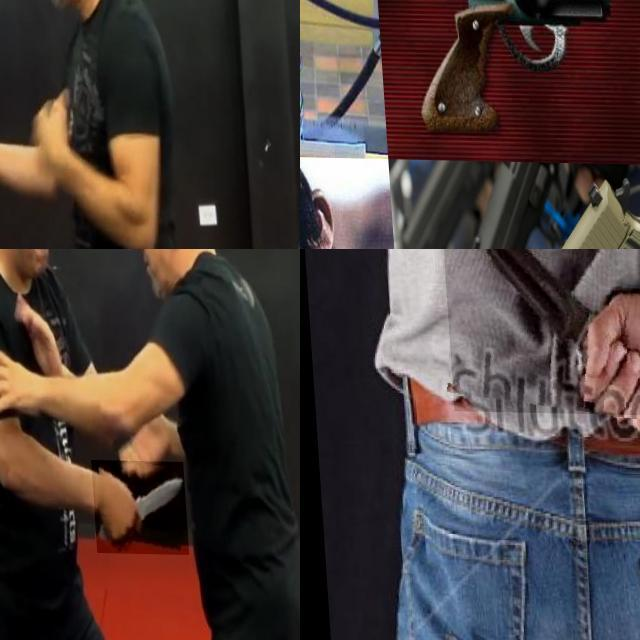-: (437, 249, 640, 413), (86, 458, 182, 554)
gun-knife-thesis - v11 Yolov5 augmented: (396, 0, 640, 137), (436, 170, 640, 249), (300, 0, 321, 40)
